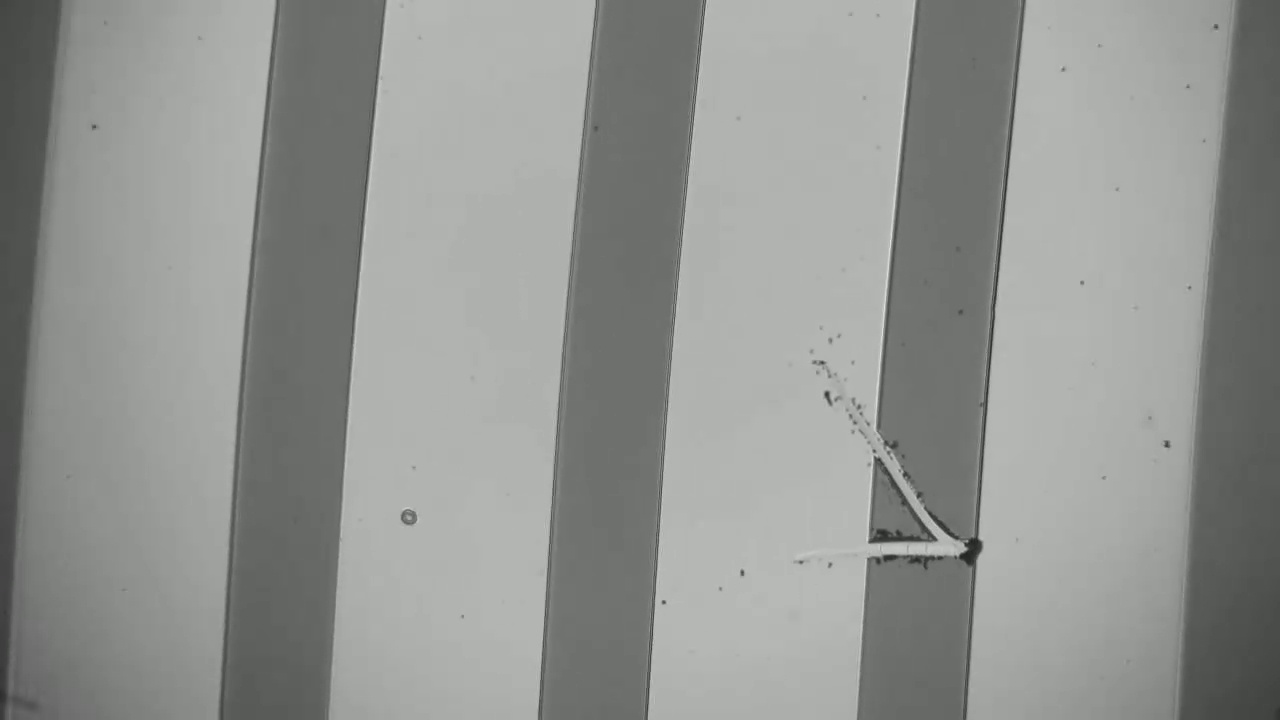Short_circuit: (846, 520, 1006, 584)
